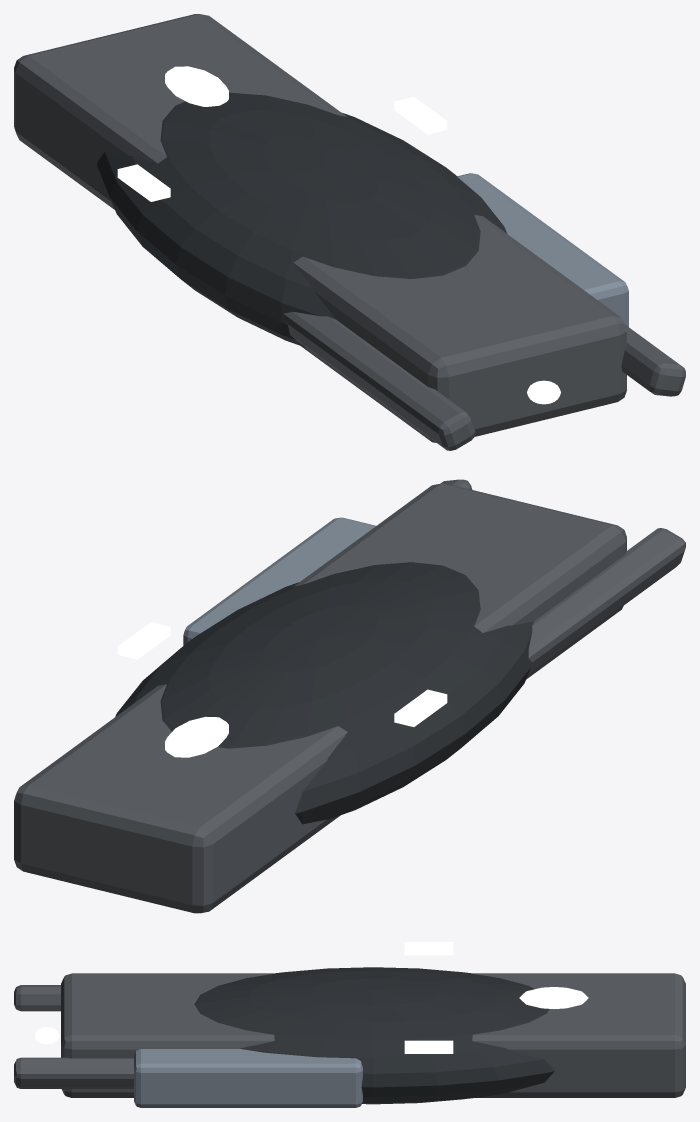
3 views of the same model, one above another, from view 1: azimuth 30°, elevation 25°; view 2: azimuth 150°, elevation 25°; view 3: azimuth 270°, elevation 25° (orthographic). The views are drawn at different scales.
Parts seen in each view (by area): view 1: RIMWARD_HULL, RIMWARD_EMISSIVE; view 2: RIMWARD_HULL, RIMWARD_EMISSIVE; view 3: RIMWARD_HULL, RIMWARD_EMISSIVE, RIMWARD_ENGINE_GLOW.
Part boxes in pixels (x1,y1,x2,y2): RIMWARD_HULL: (14, 14, 685, 450); RIMWARD_EMISSIVE: (117, 66, 447, 201); RIMWARD_HULL: (14, 479, 685, 913); RIMWARD_EMISSIVE: (117, 622, 447, 757); RIMWARD_HULL: (14, 967, 685, 1107); RIMWARD_EMISSIVE: (404, 942, 588, 1053); RIMWARD_ENGINE_GLOW: (34, 1027, 59, 1044).
Size of the model in its own units: 2.59 by 1.04 by 6.97.
